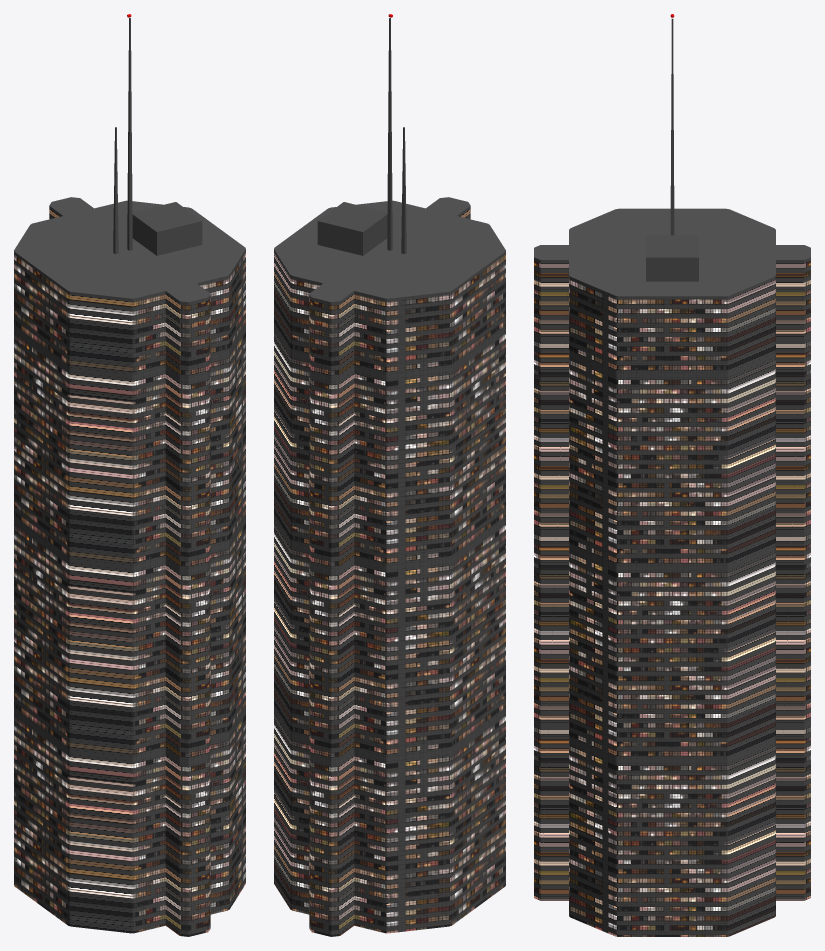
File: Mesh_NeonOffice-Medium.fbx
The picture shows the model from 3 angles, left to right: view 1: azimuth 30°, elevation 25°; view 2: azimuth 150°, elevation 25°; view 3: azimuth 270°, elevation 25°; orthographic projection.
Visible parts, largest first — view 1: Mesh_NeonOffice-Medium; view 2: Mesh_NeonOffice-Medium; view 3: Mesh_NeonOffice-Medium.
Part boxes in pixels (x1=…): Mesh_NeonOffice-Medium: x1=14, y1=14, x2=245, y2=936; Mesh_NeonOffice-Medium: x1=274, y1=14, x2=505, y2=936; Mesh_NeonOffice-Medium: x1=534, y1=14, x2=810, y2=936.
Size of the model in its own units: 31.78 by 149 by 42.54.
